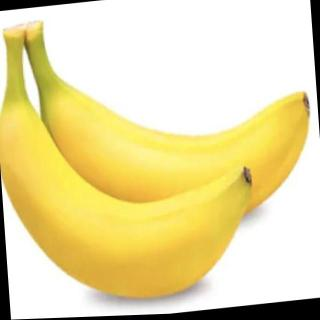banana: (0, 78, 260, 315), (35, 60, 318, 242)
